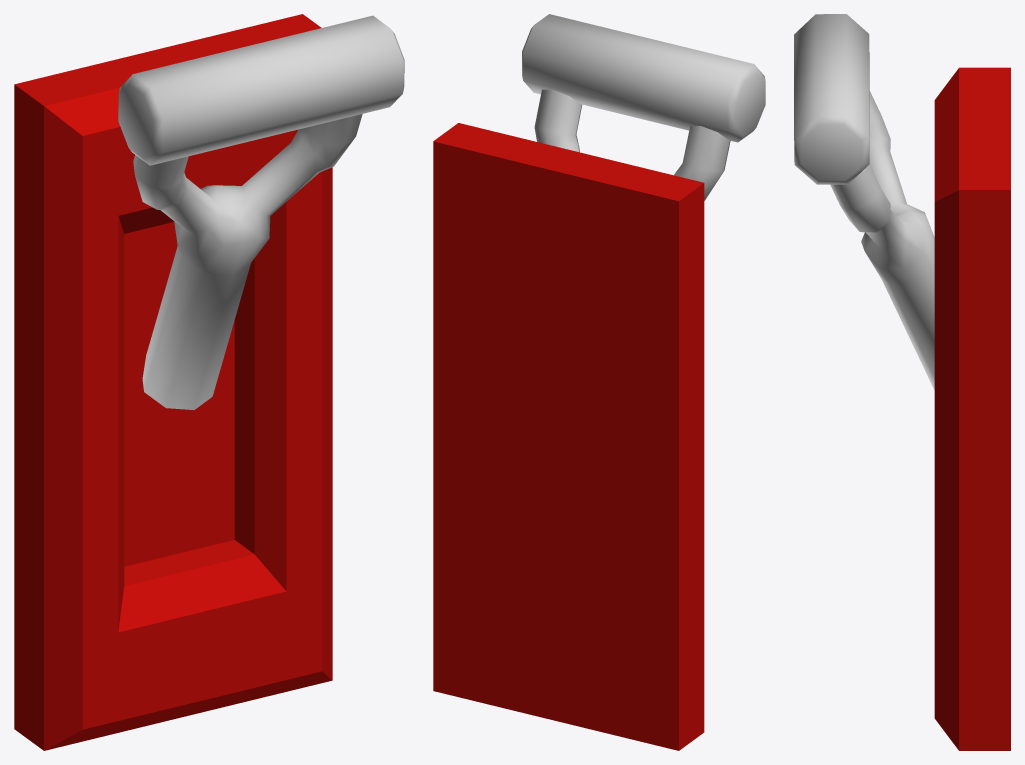
The model's file is Lever.fbx.
3 views of the same model, side by side, from view 1: azimuth 30°, elevation 25°; view 2: azimuth 150°, elevation 25°; view 3: azimuth 270°, elevation 25° (orthographic). The views are drawn at different scales.
Visible parts, largest first — view 1: Lever body, Lever arm; view 2: Lever body, Lever arm; view 3: Lever body, Lever arm.
Part boxes in pixels (left/top/right/bottom): Lever body: left=14, top=14, right=332, bottom=750; Lever arm: left=118, top=15, right=404, bottom=409; Lever body: left=433, top=123, right=704, bottom=750; Lever arm: left=522, top=14, right=765, bottom=200; Lever body: left=934, top=67, right=1010, bottom=750; Lever arm: left=794, top=14, right=934, bottom=390.
Bounding box in the file's own units: 0.2808 × 0.6683 × 0.2102.
